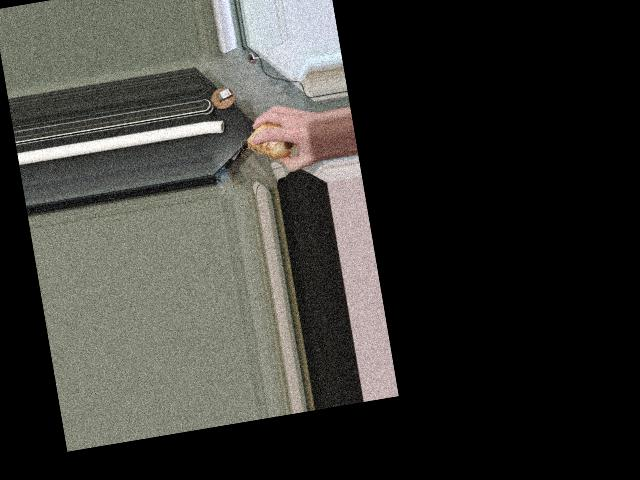onion: (245, 120, 293, 163)
